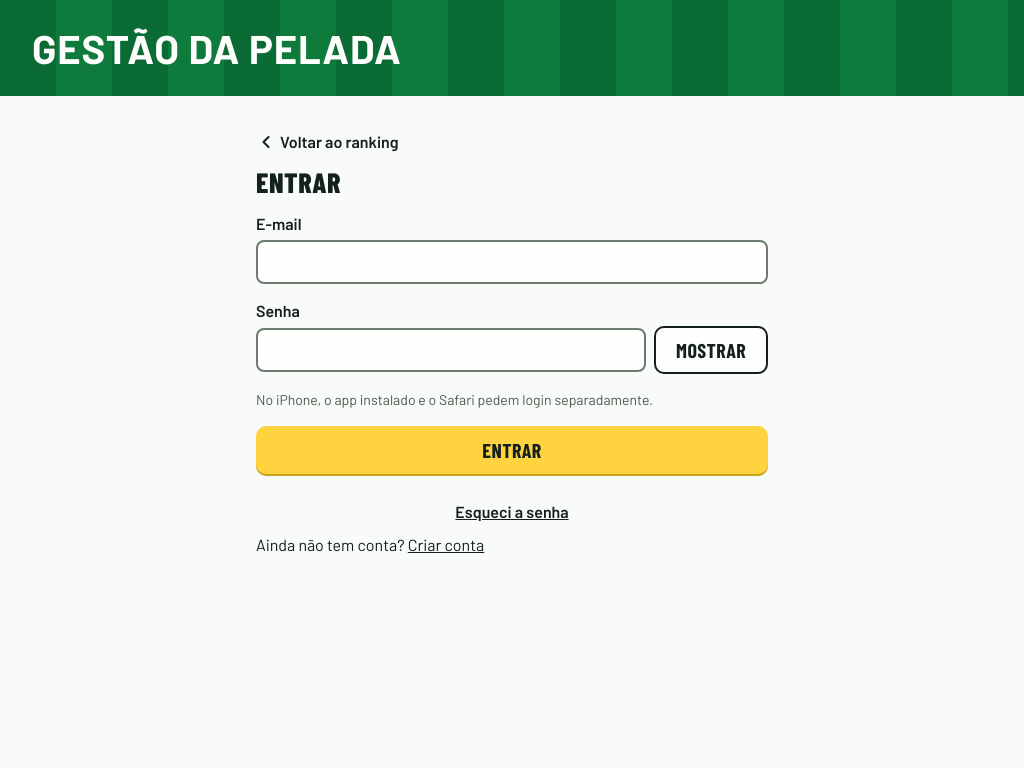
Test: Entrar: envio › ACE-13: bloqueio temporário mostra o aviso de 15 minutos
The width and height of the screenshot is (1024, 768).
Step 1. Type "ana@exemplo.com.br" into the field labelled "E-mail" → point(512, 262), box [256,240,768,284]
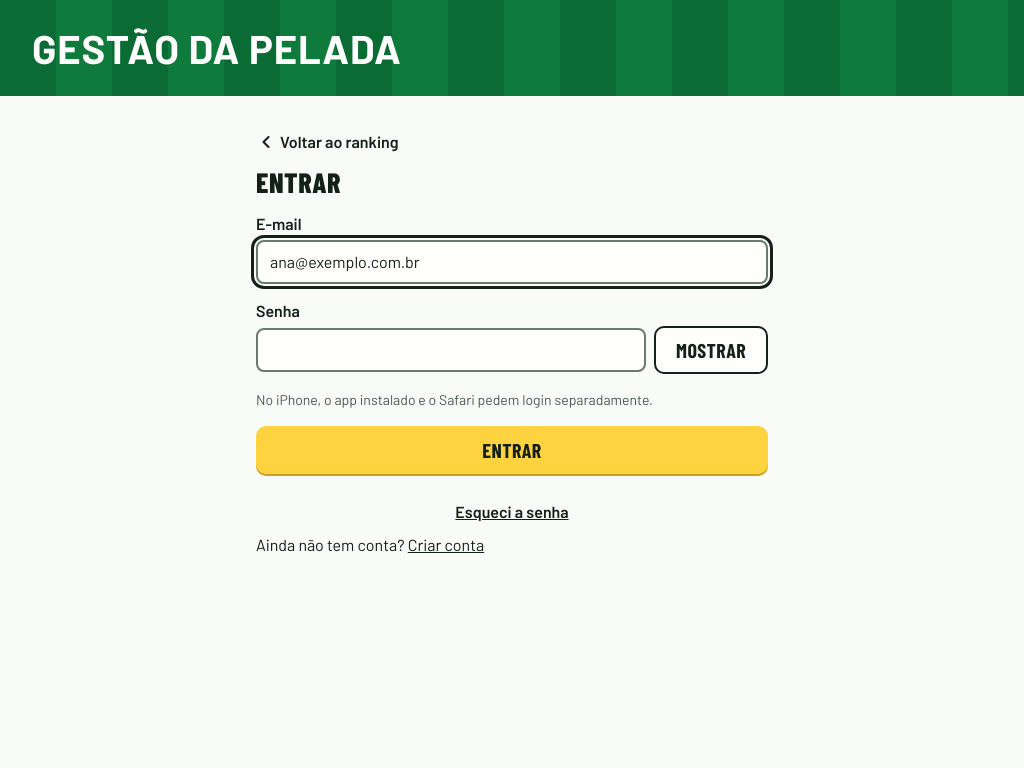
Step 2. Type "senha-boa-123" into the password field labelled "Senha" → point(451, 350), box [256,328,646,372]
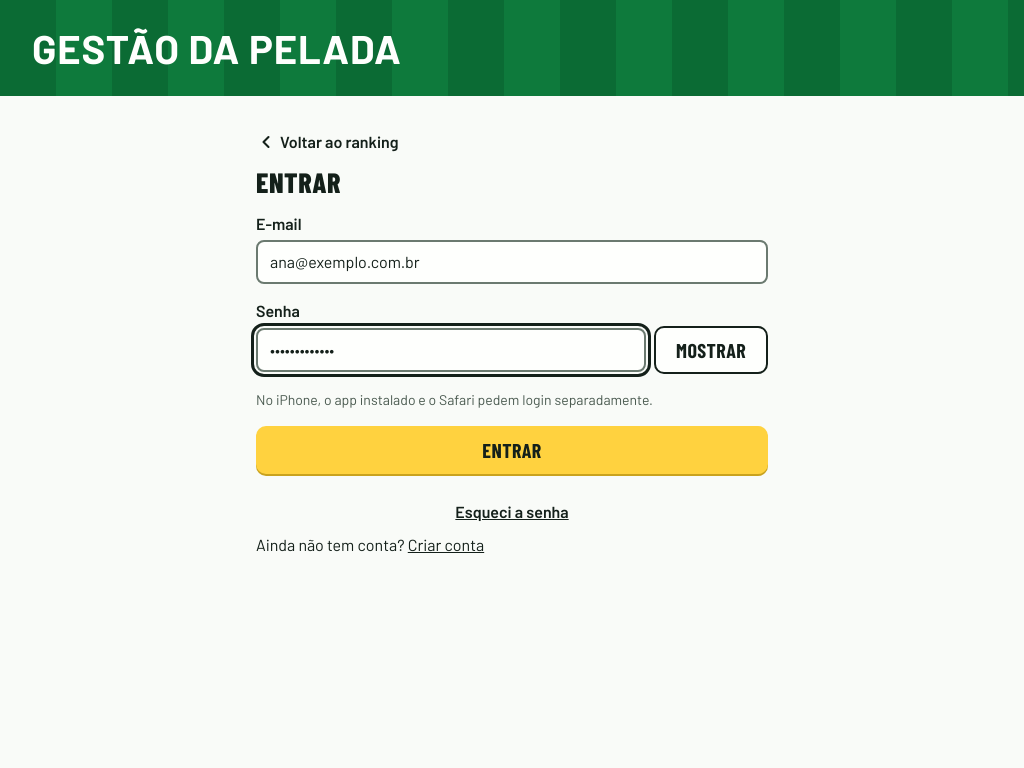
Step 3. Click the button "Entrar" → point(512, 450), box [256,426,768,474]
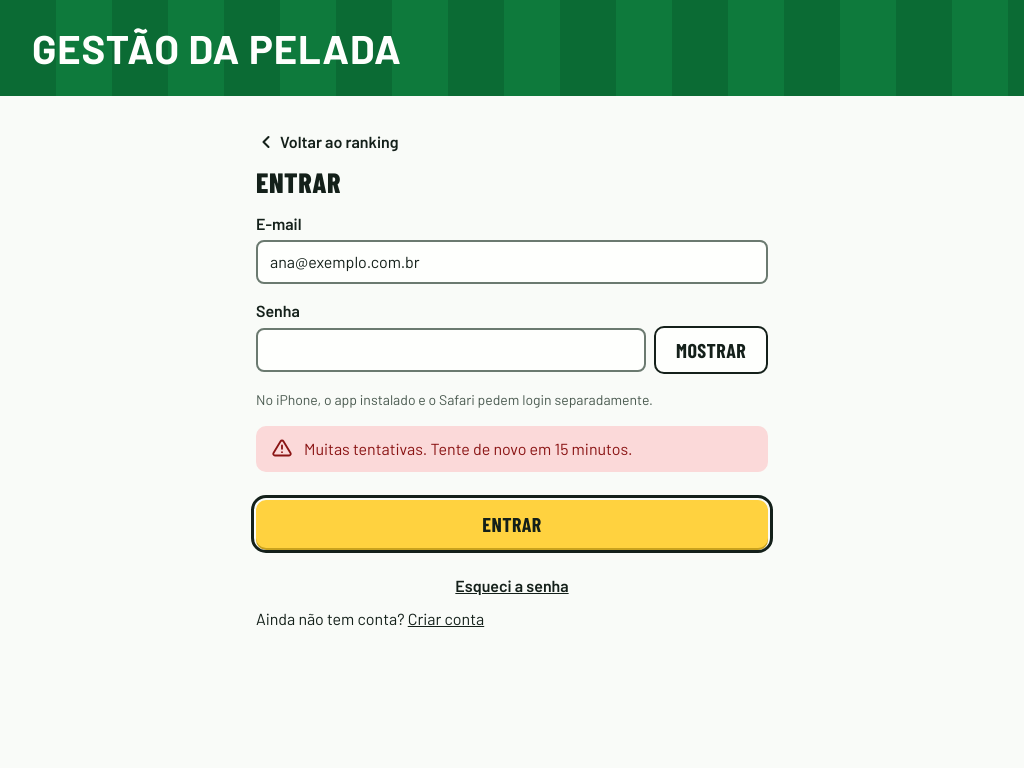
Expected: the message reads "Muitas tentativas. Tente de novo em 15 minutos.", [304,439,632,458]
